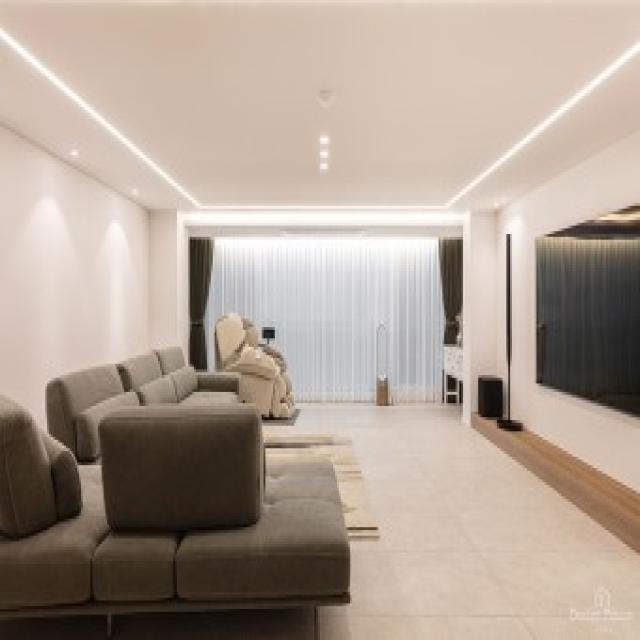Chair: (211, 309, 299, 410)
Sofa: (2, 338, 346, 640)
tv: (531, 206, 640, 420)
window: (189, 233, 455, 402)
